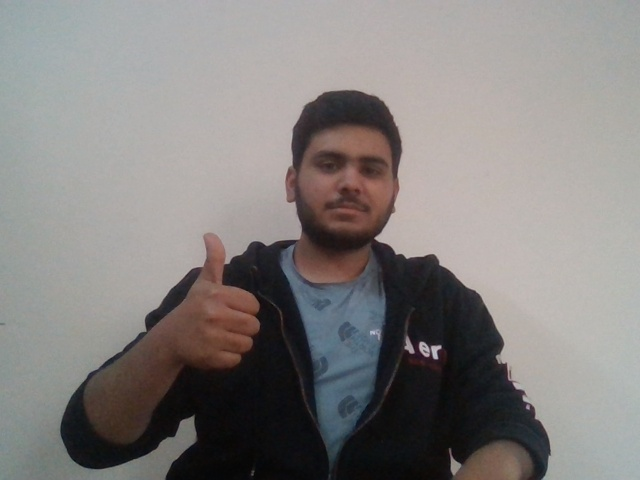Yes: (169, 226, 273, 372)
